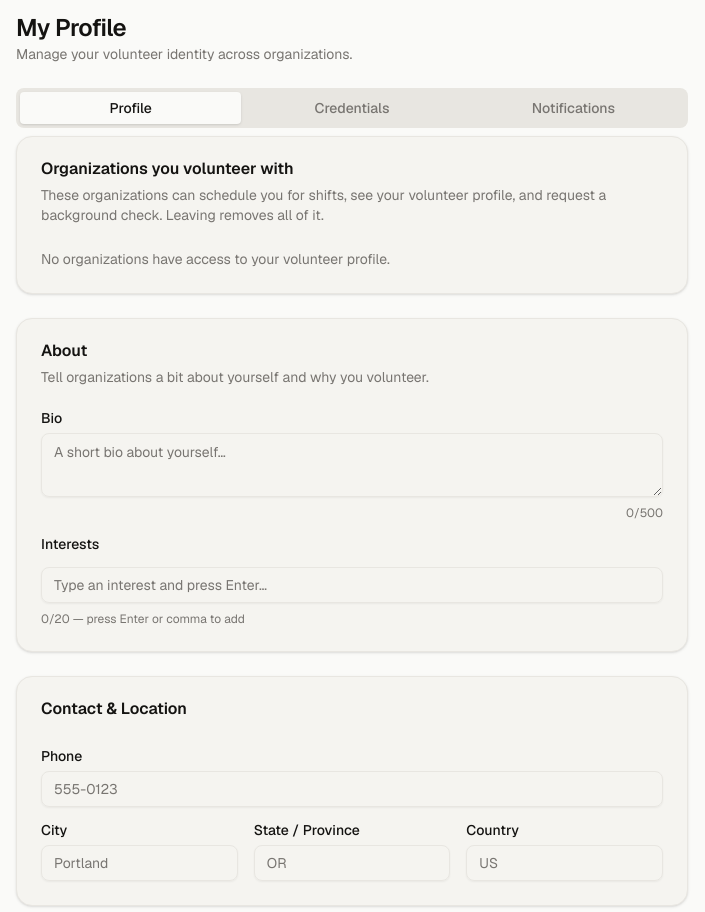
Test case: CredentialWallet error state › shows an error, NOT "No credentials yet"
Step 1. Click the tab "Credentials" → x=352, y=108, box [241,92,463,124]
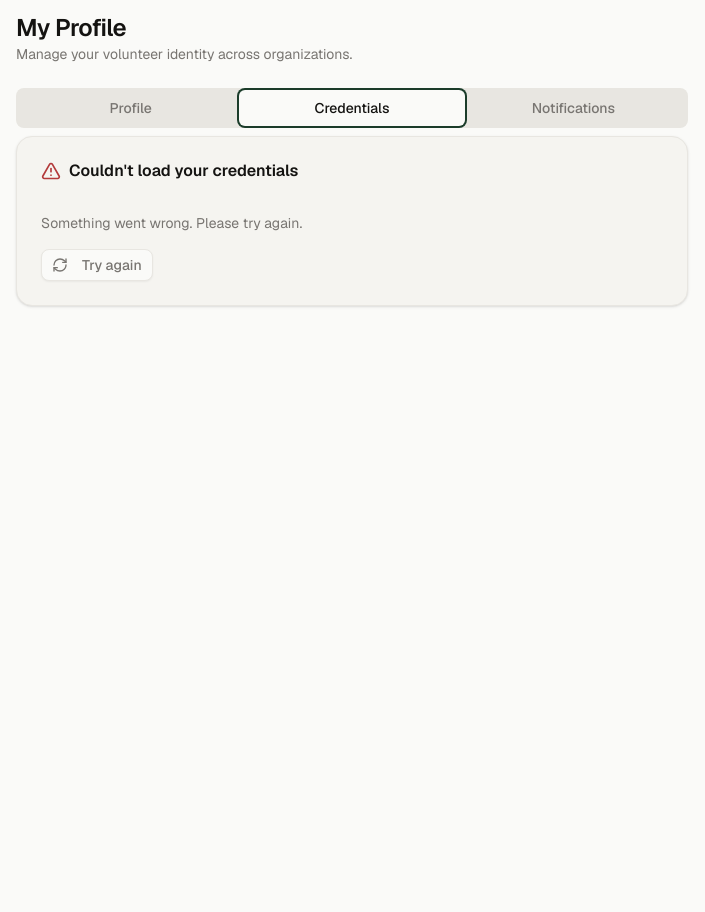
expect the text "Couldn't load your credentials" is shown: met, box [41,160,298,181]
